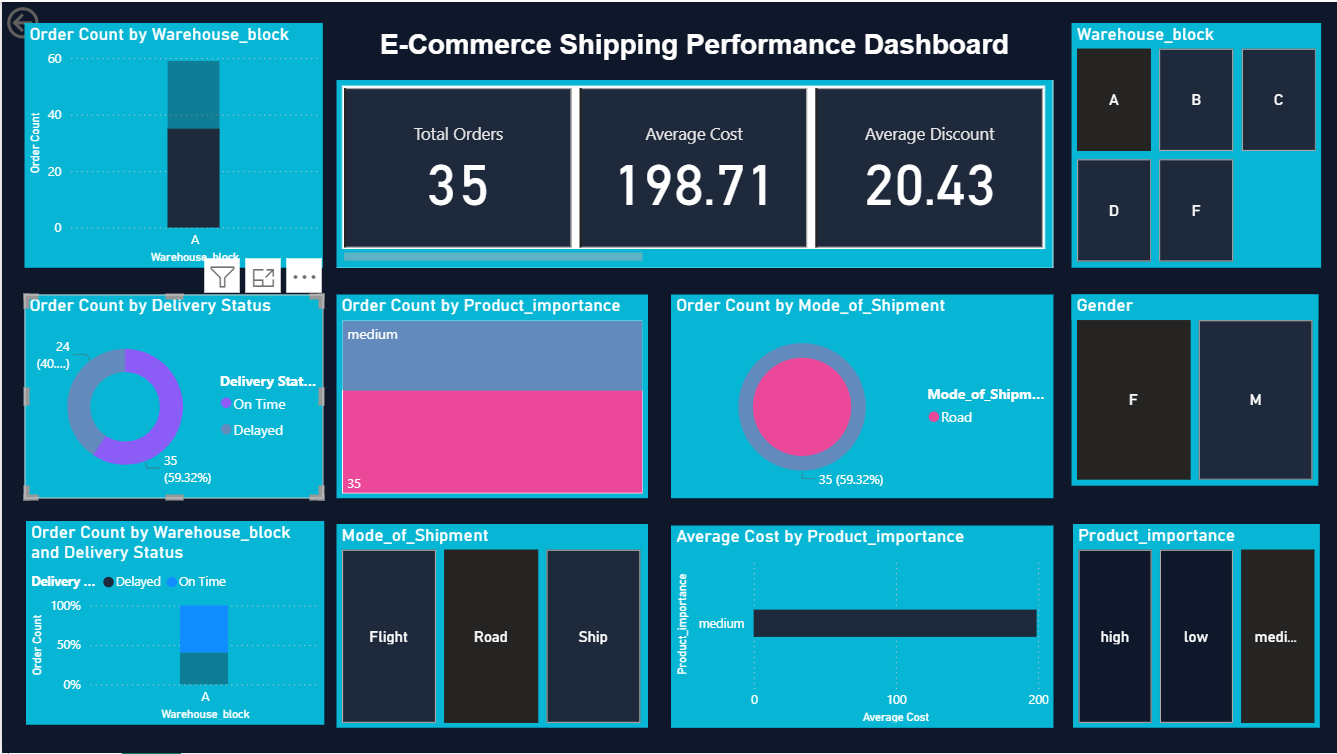

The dashboard page shown, as its layout file describes it:
{"tool":"powerbi","page":{"name":"Page 1","canvas":[1280,720],"ordinal":0},"visuals":[{"type":"cardVisual","fields":{"Data":["Ecommerce Shipping Data.Total Orders","Ecommerce Shipping Data.Average Cost","Ecommerce Shipping Data.Average Discount","Ecommerce Shipping Data.Average Rating","Ecommerce Shipping Data.Average Weight","Ecommerce Shipping Data.Delayed %","Ecommerce Shipping Data.On Time %"]},"box":[321.2,74.2,686.4,180.3],"z":0},{"type":"actionButton","box":[0,0,100,40],"z":1000},{"type":"treemap","fields":{"Group":["Ecommerce Shipping Data.Product_importance"],"Values":["Ecommerce Shipping Data.Order Count"]},"box":[321.2,280.3,298.5,195.5],"z":2000},{"type":"clusteredColumnChart","fields":{"Category":["Ecommerce Shipping Data.Warehouse_block"],"Y":["Ecommerce Shipping Data.Order Count"]},"box":[21.2,19.7,286.2,234.7],"z":3000},{"type":"pieChart","fields":{"Category":["Ecommerce Shipping Data.Mode_of_Shipment"],"Y":["Ecommerce Shipping Data.Order Count"]},"box":[640.9,280.3,366.7,195.5],"z":4000},{"type":"donutChart","fields":{"Category":["Ecommerce Shipping Data.Delivery Status"],"Y":["Ecommerce Shipping Data.Order Count"]},"box":[21.2,280.1,286.2,195.3],"z":5000},{"type":"hundredPercentStackedColumnChart","fields":{"Category":["Ecommerce Shipping Data.Warehouse_block"],"Y":["Ecommerce Shipping Data.Order Count"],"Series":["Ecommerce Shipping Data.Delivery Status"]},"box":[22.7,498.2,286.2,195.3],"z":6000},{"type":"advancedSlicerVisual","fields":{"Values":["Ecommerce Shipping Data.Warehouse_block"]},"box":[1025.8,19.7,239.4,234.8],"z":7000},{"type":"advancedSlicerVisual","fields":{"Values":["Ecommerce Shipping Data.Mode_of_Shipment"]},"box":[321.2,500,298.5,195.5],"z":8000},{"type":"advancedSlicerVisual","fields":{"Values":["Ecommerce Shipping Data.Gender"]},"box":[1025.8,280.3,236.4,183.3],"z":9000},{"type":"advancedSlicerVisual","fields":{"Values":["Ecommerce Shipping Data.Product_importance"]},"box":[1027.3,500,236.4,195.5],"z":10000},{"type":"clusteredBarChart","fields":{"Category":["Ecommerce Shipping Data.Product_importance"],"Y":["Ecommerce Shipping Data.Average Cost"]},"box":[640.9,501.5,366.7,193.9],"z":11000},{"type":"textbox","box":[321.2,19.7,686.4,43.9],"z":12000}]}

Visuals, with their boxes in screenshot pixels (x1, y1, x2, y2), scaled from the page's 1280x720 canvas onto the 1337x754 screenshot:
cardVisual - Ecommerce Shipping Data.Total Orders x Ecommerce Shipping Data.Average Cost: x1=336 y1=78 x2=1052 y2=267
actionButton: x1=0 y1=0 x2=104 y2=42
treemap - Ecommerce Shipping Data.Product_importance x Ecommerce Shipping Data.Order Count: x1=336 y1=294 x2=647 y2=498
clusteredColumnChart - Ecommerce Shipping Data.Warehouse_block x Ecommerce Shipping Data.Order Count: x1=22 y1=21 x2=321 y2=266
pieChart - Ecommerce Shipping Data.Mode_of_Shipment x Ecommerce Shipping Data.Order Count: x1=669 y1=294 x2=1052 y2=498
donutChart - Ecommerce Shipping Data.Delivery Status x Ecommerce Shipping Data.Order Count: x1=22 y1=293 x2=321 y2=498
hundredPercentStackedColumnChart - Ecommerce Shipping Data.Warehouse_block x Ecommerce Shipping Data.Order Count: x1=24 y1=522 x2=323 y2=726
advancedSlicerVisual - Ecommerce Shipping Data.Warehouse_block: x1=1071 y1=21 x2=1322 y2=267
advancedSlicerVisual - Ecommerce Shipping Data.Mode_of_Shipment: x1=336 y1=524 x2=647 y2=728
advancedSlicerVisual - Ecommerce Shipping Data.Gender: x1=1071 y1=294 x2=1318 y2=485
advancedSlicerVisual - Ecommerce Shipping Data.Product_importance: x1=1073 y1=524 x2=1320 y2=728
clusteredBarChart - Ecommerce Shipping Data.Product_importance x Ecommerce Shipping Data.Average Cost: x1=669 y1=525 x2=1052 y2=728
textbox: x1=336 y1=21 x2=1052 y2=67
